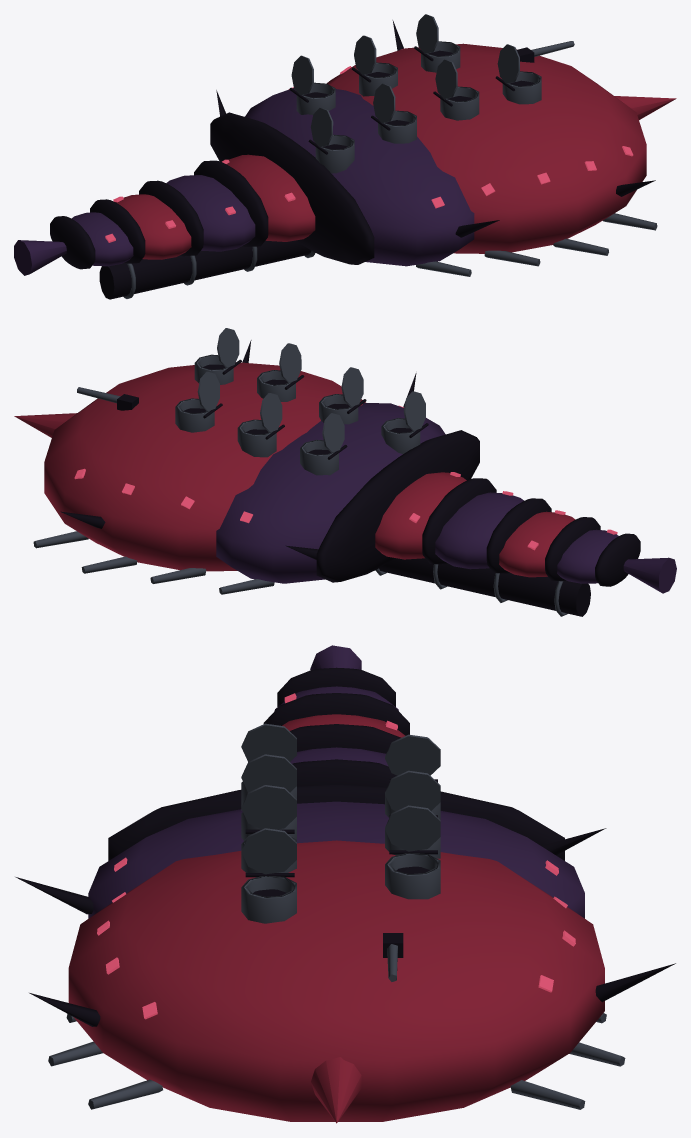
File: thurible-directorate.glb
3 views of the same model, one above another, from view 1: azimuth 30°, elevation 25°; view 2: azimuth 150°, elevation 25°; view 3: azimuth 270°, elevation 25° (orthographic). The views are drawn at different scales.
Visible parts, largest first — view 1: tergite_5, tergite_4, tergite_ridge_4, keel, tergite_3, tergite_2, tergite_1, tergite_ridge_3, tergite_0, tergite_ridge_2, tergite_ridge_0, telson (+20 smaller); view 2: tergite_5, tergite_4, tergite_ridge_4, keel, tergite_3, tergite_2, tergite_1, tergite_ridge_3, tergite_0, tergite_ridge_2, tergite_ridge_0, telson (+20 smaller); view 3: tergite_5, tergite_4, tergite_ridge_4, tergite_ridge_1, tergite_ridge_3, tergite_ridge_2, cell_s0_collar, tergite_ridge_0, rostrum, cell_p0_collar, cell_p0_lid, cell_s0_lid (+13 smaller).
Boxes of the visible parts, x1,y1,x2,y2 form: tergite_5: (327,43,646,253); tergite_4: (245,88,474,266); tergite_ridge_4: (210,112,374,264); keel: (99,240,311,299); tergite_3: (226,154,315,241); tergite_2: (166,175,255,251); tergite_1: (115,194,191,259); tergite_ridge_3: (194,160,268,246); tergite_0: (71,212,133,266); tergite_ridge_2: (139,180,203,256); tergite_ridge_0: (50,216,95,269); telson: (14,240,66,275); tergite_5: (44,362,365,571); tergite_4: (216,403,445,583); tergite_ridge_4: (316,430,479,582); keel: (379,558,590,616); tergite_3: (375,472,466,559); tergite_2: (435,492,523,569); tergite_1: (499,511,575,577); tergite_ridge_3: (422,478,496,564); tergite_0: (557,529,618,583); tergite_ridge_2: (486,498,551,573); tergite_ridge_0: (595,533,640,586); telson: (623,557,676,593); tergite_5: (68,840,604,1121); tergite_4: (88,801,584,918); tergite_ridge_4: (108,785,564,860); tergite_ridge_1: (263,693,409,735); tergite_ridge_3: (292,759,396,786); tergite_ridge_2: (290,724,400,753); cell_s0_collar: (241,876,296,923); tergite_ridge_0: (277,667,395,706); rostrum: (311,1057,361,1123); cell_p0_collar: (385,853,440,899); cell_p0_lid: (385,805,440,851); cell_s0_lid: (241,828,296,874).
Size of the model in its own units: 105 by 28.78 by 64.73.
